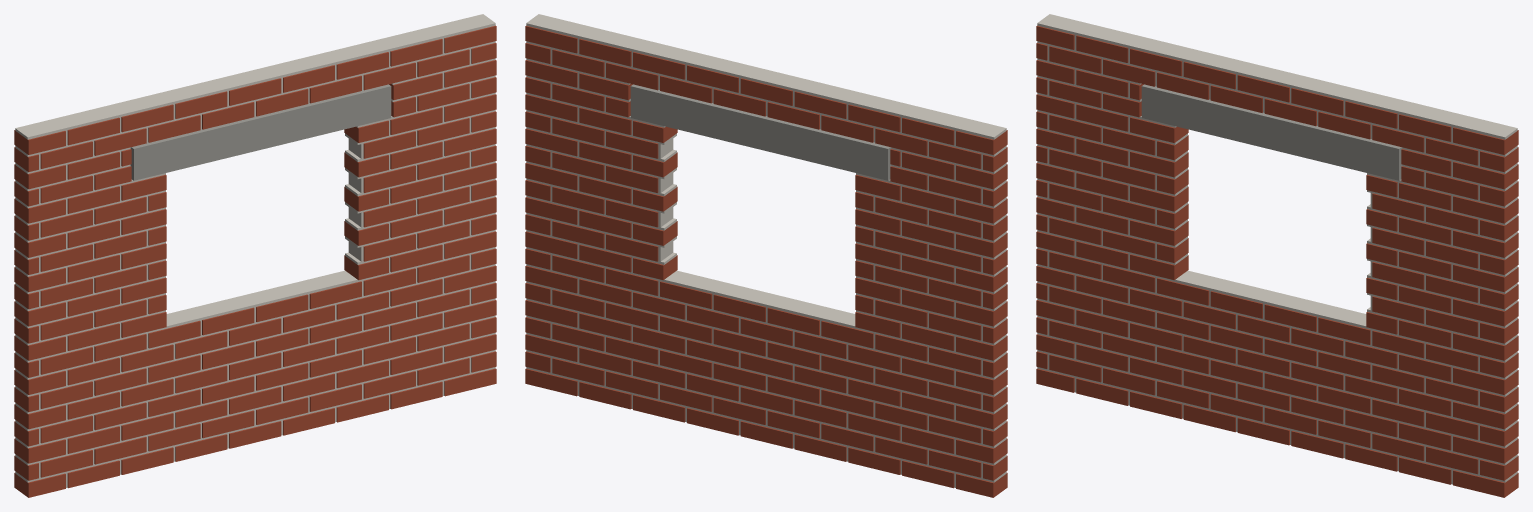
The model's file is wall_brick_sample.glb.
The picture shows the model from 3 angles, left to right: view 1: azimuth 30°, elevation 25°; view 2: azimuth 150°, elevation 25°; view 3: azimuth 330°, elevation 25°; orthographic projection.
Visible parts, largest first — view 1: wall_brick_sample; view 2: wall_brick_sample; view 3: wall_brick_sample.
Boxes of the visible parts, x1,y1,x2,y2 form: wall_brick_sample: (14, 14, 496, 497); wall_brick_sample: (525, 14, 1007, 497); wall_brick_sample: (1036, 14, 1518, 497).
Bounding box in the file's own units: 2 × 1.47 × 0.105.
